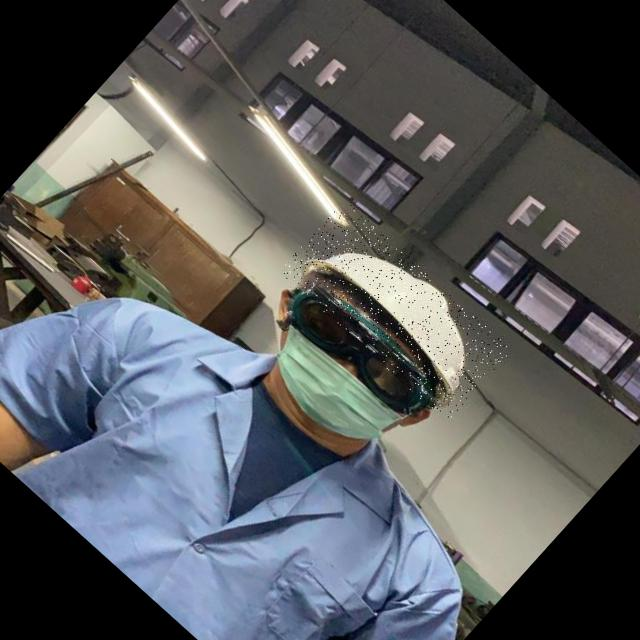hard_hat: (277, 199, 511, 423)
